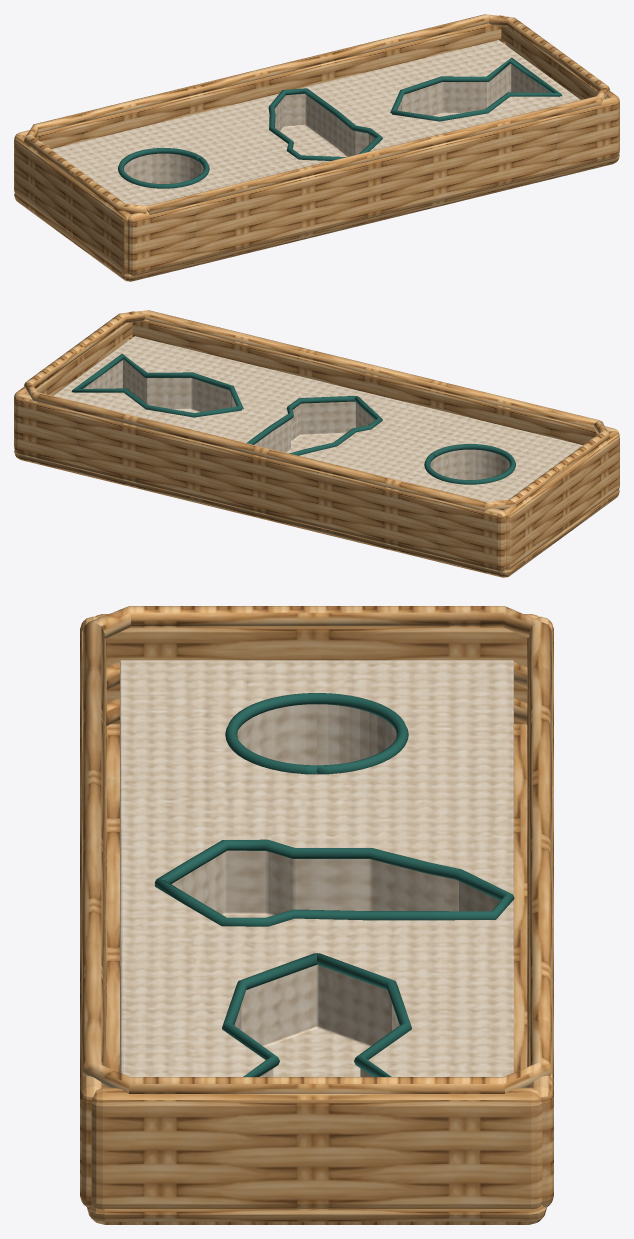
File: basket.glb
The picture shows the model from 3 angles, top to bottom: view 1: azimuth 30°, elevation 25°; view 2: azimuth 150°, elevation 25°; view 3: azimuth 270°, elevation 25°; orthographic projection. The views are drawn at different scales.
Visible parts, largest first — view 1: Cream fitted insert, Basket side.001, Basket woven rim, Basket side, Basket end.001, Wicker basket base, fish socket piping, Basket end, mouse socket piping, ball socket piping; view 2: Cream fitted insert, Basket side, Basket woven rim, Basket side.001, Basket end.001, Wicker basket base, fish socket piping, Basket end, mouse socket piping, ball socket piping; view 3: Cream fitted insert, Basket end, Basket woven rim, Wicker basket base, Basket end.001, mouse socket piping, fish socket piping, ball socket piping, Basket side, Basket side.001.
Boxes of the visible parts, x1,y1,x2,y2 form: Cream fitted insert: (51, 40, 580, 205); Basket side.001: (127, 97, 619, 275); Basket woven rim: (24, 14, 609, 214); Basket side: (14, 15, 503, 148); Basket end.001: (14, 135, 130, 273); Wicker basket base: (14, 154, 619, 281); fish socket piping: (390, 57, 562, 121); Basket end: (501, 26, 619, 150); mouse socket piping: (268, 88, 382, 160); ball socket piping: (118, 148, 209, 188); Cream fitted insert: (53, 336, 582, 501); Basket side: (14, 393, 506, 571); Basket woven rim: (24, 310, 609, 510); Basket side.001: (130, 311, 619, 444); Basket end.001: (503, 431, 619, 569); Wicker basket base: (14, 450, 619, 577); fish socket piping: (71, 353, 243, 417); Basket end: (14, 322, 132, 446); mouse socket piping: (246, 396, 382, 455); ball socket piping: (424, 444, 515, 484); Cream fitted insert: (120, 660, 513, 1076); Basket end: (91, 1087, 542, 1209); Basket woven rim: (82, 606, 551, 1093); Wicker basket base: (87, 724, 546, 1224); Basket end.001: (95, 614, 538, 724); mouse socket piping: (154, 839, 514, 926); fish socket piping: (222, 953, 411, 1076); ball socket piping: (225, 693, 408, 774); Basket side: (527, 616, 553, 1207); Basket side.001: (80, 616, 106, 1207).
Size of the model in its own units: 1.72 by 0.242 by 0.71.
3 materials, 2 textured.
